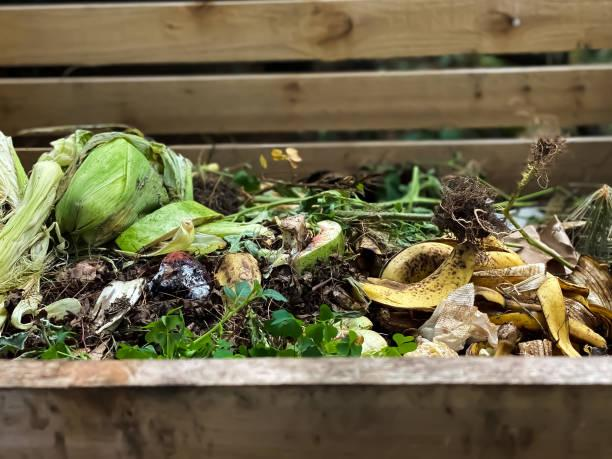organic: (0, 117, 612, 371)
